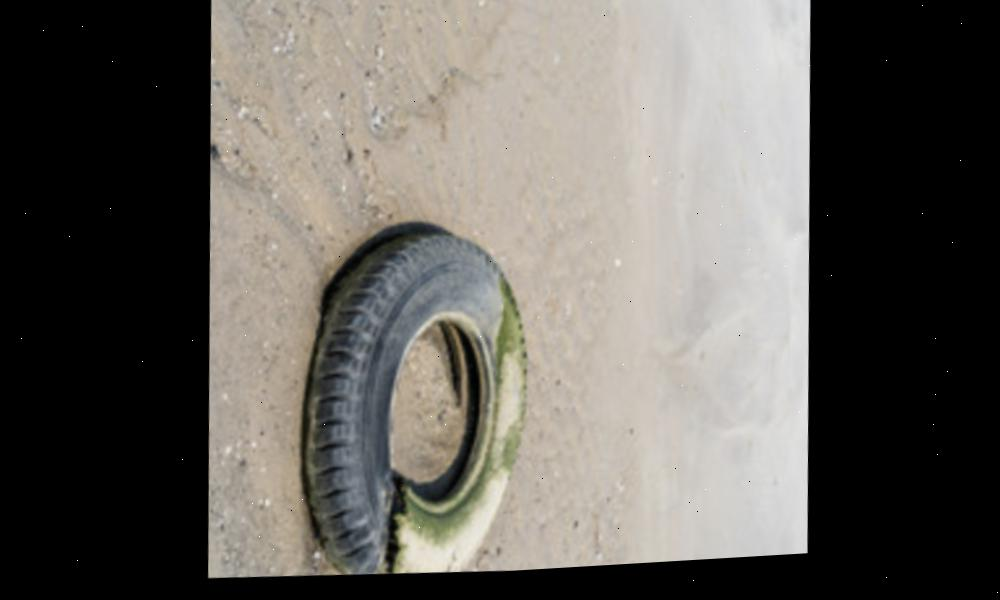tire: (290, 228, 532, 587)
